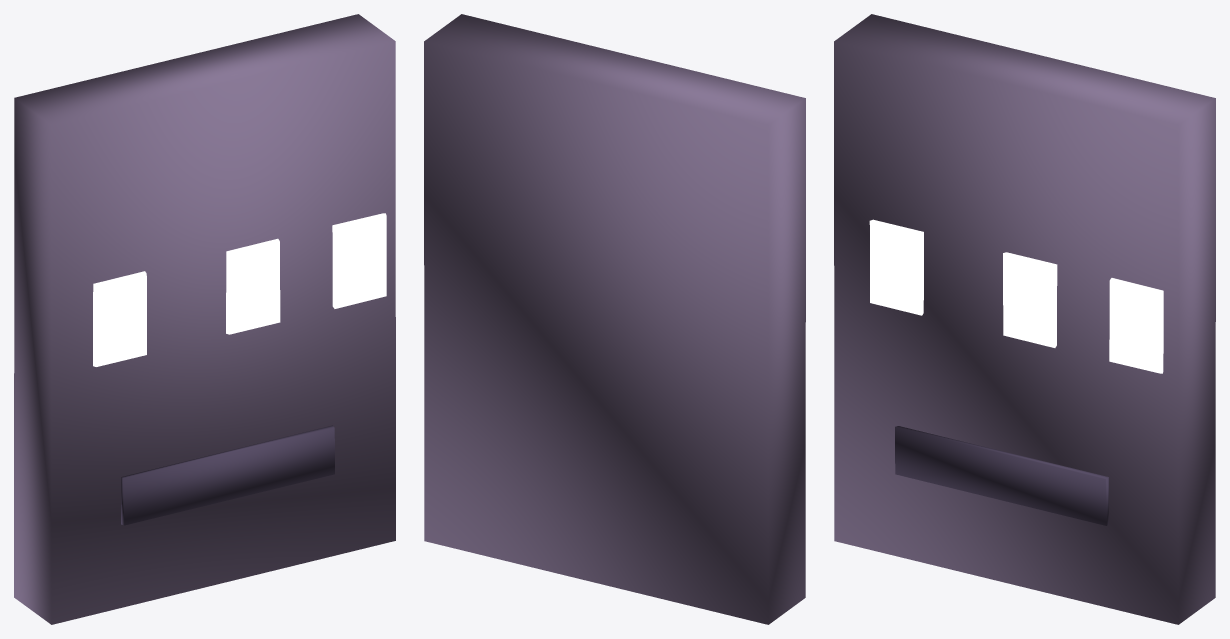
The model's file is SM_Labor_LabWall_LOD3.fbx.
3 renders of one model, left to right at view 1: azimuth 30°, elevation 25°; view 2: azimuth 150°, elevation 25°; view 3: azimuth 330°, elevation 25°, orthographic.
Parts seen in each view (by area): view 1: SM_Labor_LabWall_LOD3; view 2: SM_Labor_LabWall_LOD3; view 3: SM_Labor_LabWall_LOD3.
Part boxes in pixels (left/top/right/bottom): SM_Labor_LabWall_LOD3: left=14, top=14, right=395, bottom=624; SM_Labor_LabWall_LOD3: left=424, top=14, right=805, bottom=624; SM_Labor_LabWall_LOD3: left=834, top=14, right=1215, bottom=624.
Bounding box in the file's own units: 2.59 × 3.59 × 0.5639.
